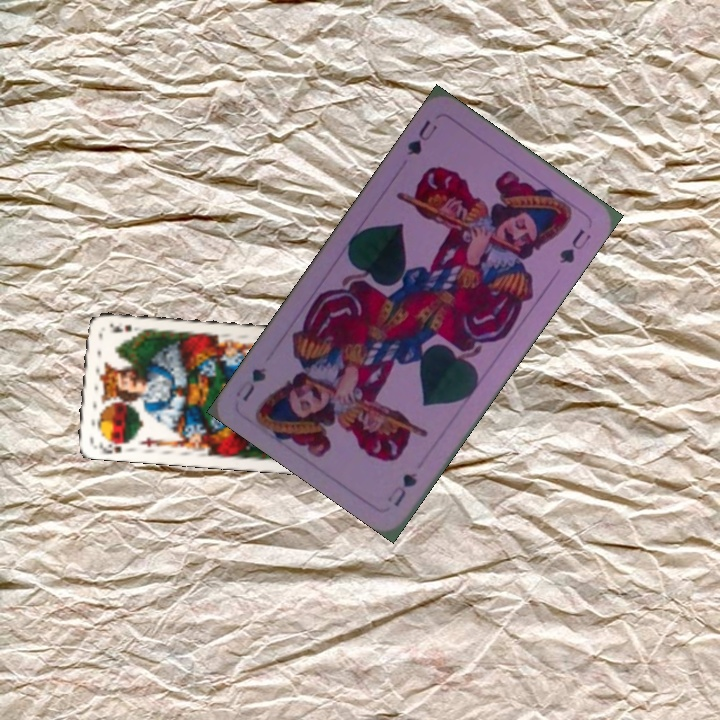GU: (403, 115, 440, 158), (383, 468, 421, 509)
SK: (95, 436, 131, 456)
